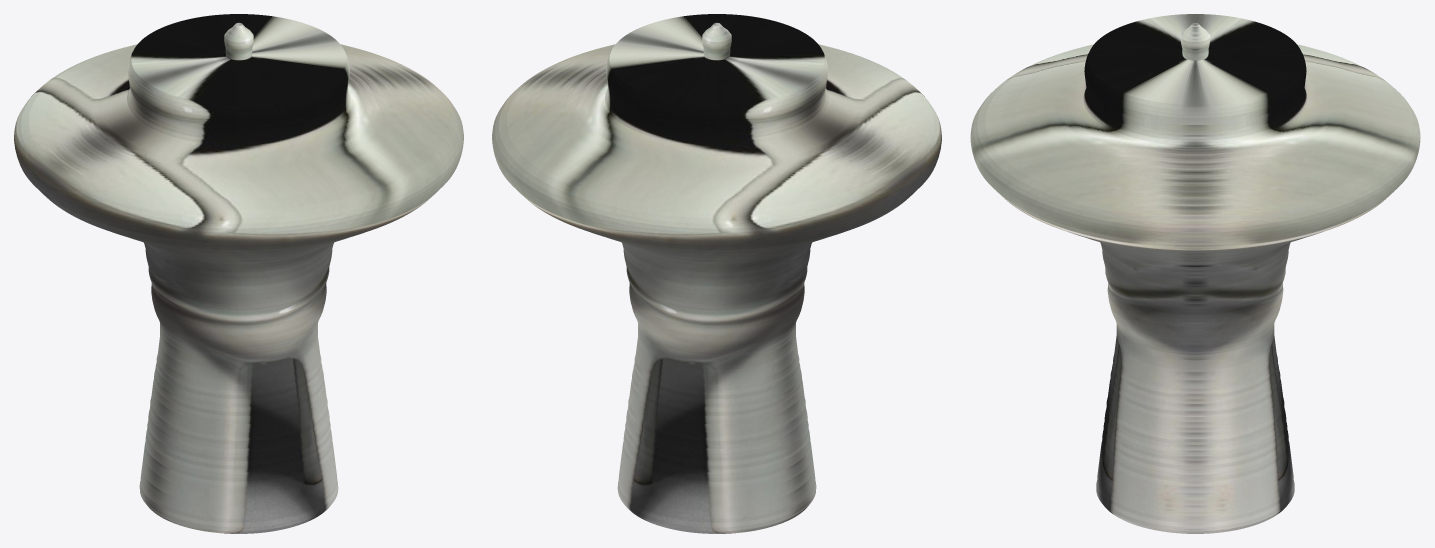
Rendered from cma-135004.glb.
3 views of the same model, side by side, from view 1: azimuth 30°, elevation 25°; view 2: azimuth 150°, elevation 25°; view 3: azimuth 270°, elevation 25° (orthographic).
Visible parts, largest first — view 1: geometry_0; view 2: geometry_0; view 3: geometry_0.
Part boxes in pixels (x1=…): geometry_0: x1=14, y1=14, x2=463, y2=533; geometry_0: x1=492, y1=14, x2=941, y2=533; geometry_0: x1=970, y1=14, x2=1420, y2=533.
Size of the model in its own units: 24.65 by 30 by 24.65.
1 material, 1 textured.
